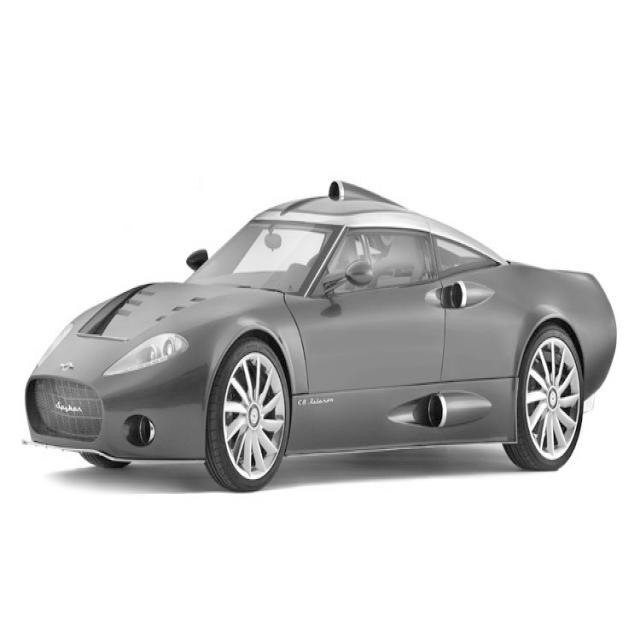car: (21, 178, 617, 492)
